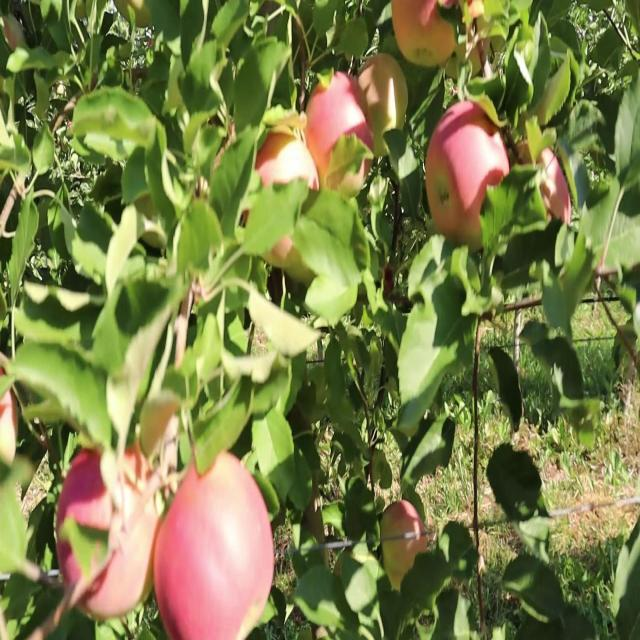apple: (304, 63, 375, 192), (396, 1, 459, 71), (380, 504, 431, 588), (64, 447, 111, 532), (364, 56, 409, 139), (392, 1, 440, 69), (416, 0, 459, 69), (256, 127, 299, 190), (540, 149, 572, 228), (60, 547, 96, 603), (460, 7, 489, 76), (0, 391, 19, 466), (268, 234, 295, 274), (596, 248, 616, 295), (4, 391, 19, 448), (4, 21, 19, 52)
